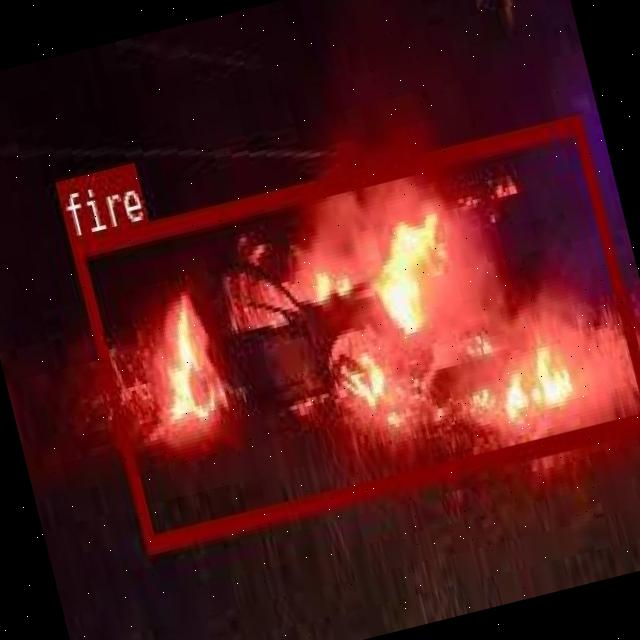fire: (68, 112, 640, 548)
